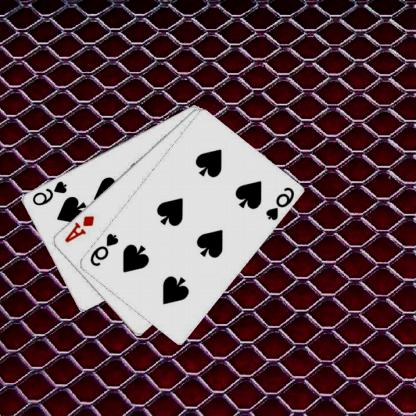6S: (264, 184, 297, 222), (89, 231, 121, 268)
9S: (31, 178, 70, 207)
AD: (63, 213, 97, 244)
